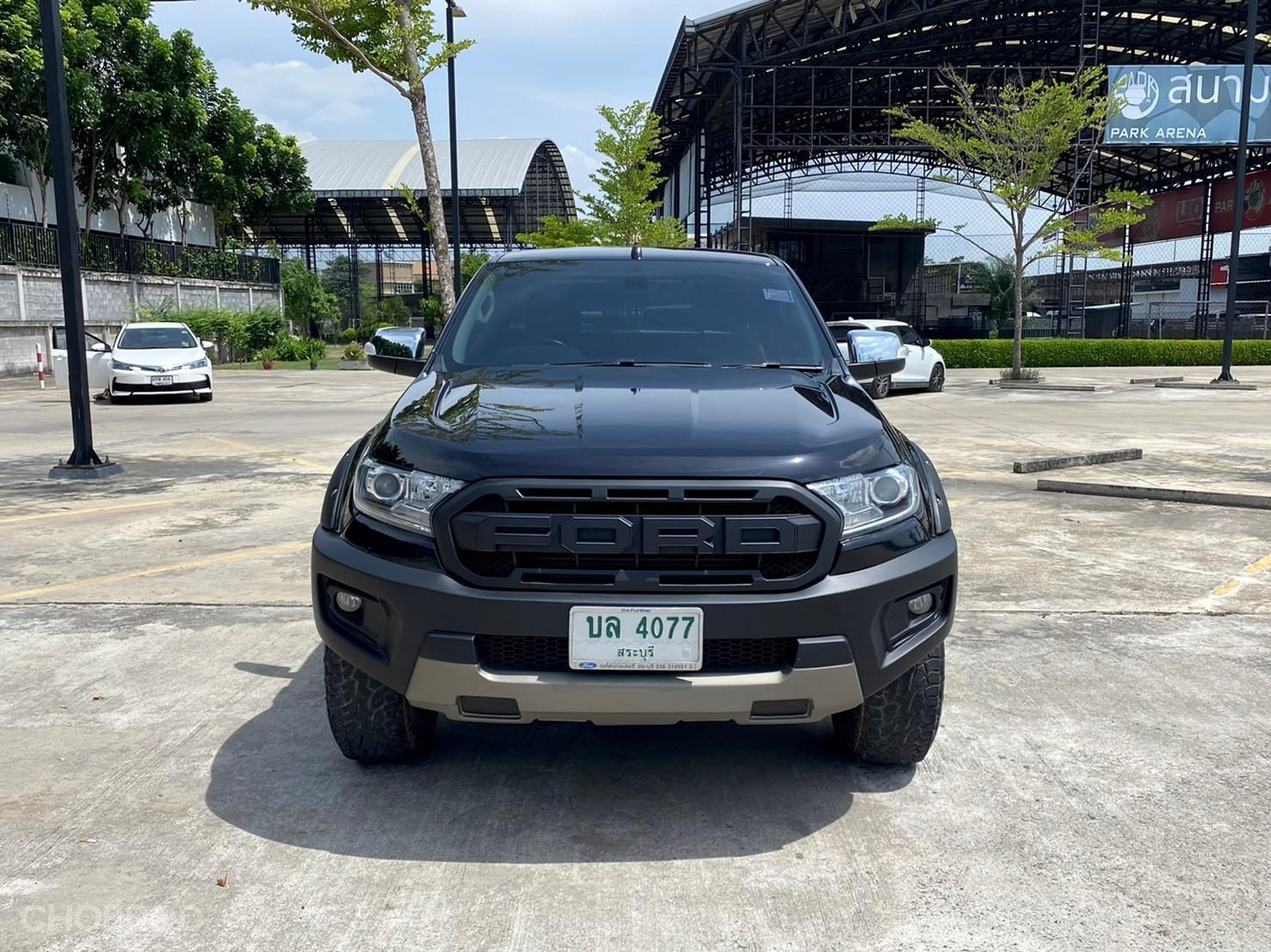license-plate: (562, 601, 705, 676)
